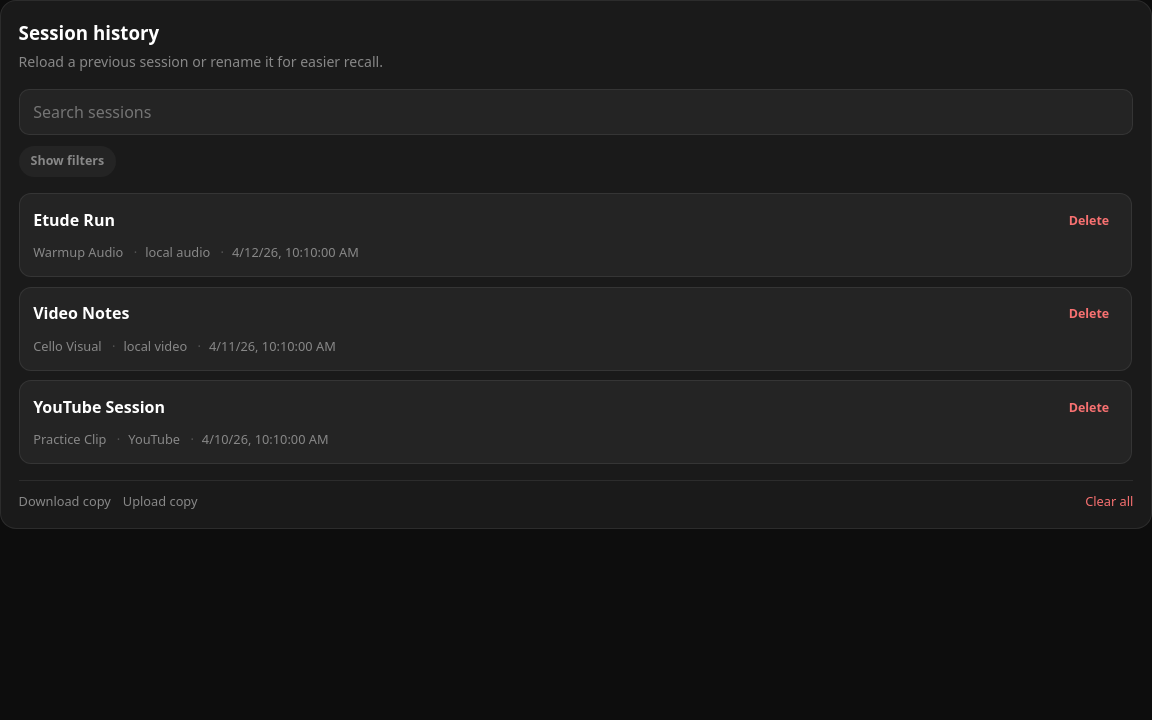
Test: SessionHistory organization controls › filters sessions by search text
This screenshot has width=1152, height=720.
Type "video" into the search field with placeholder "Search sessions" at coordinates (576, 112), box 19,89 -> 1133,135
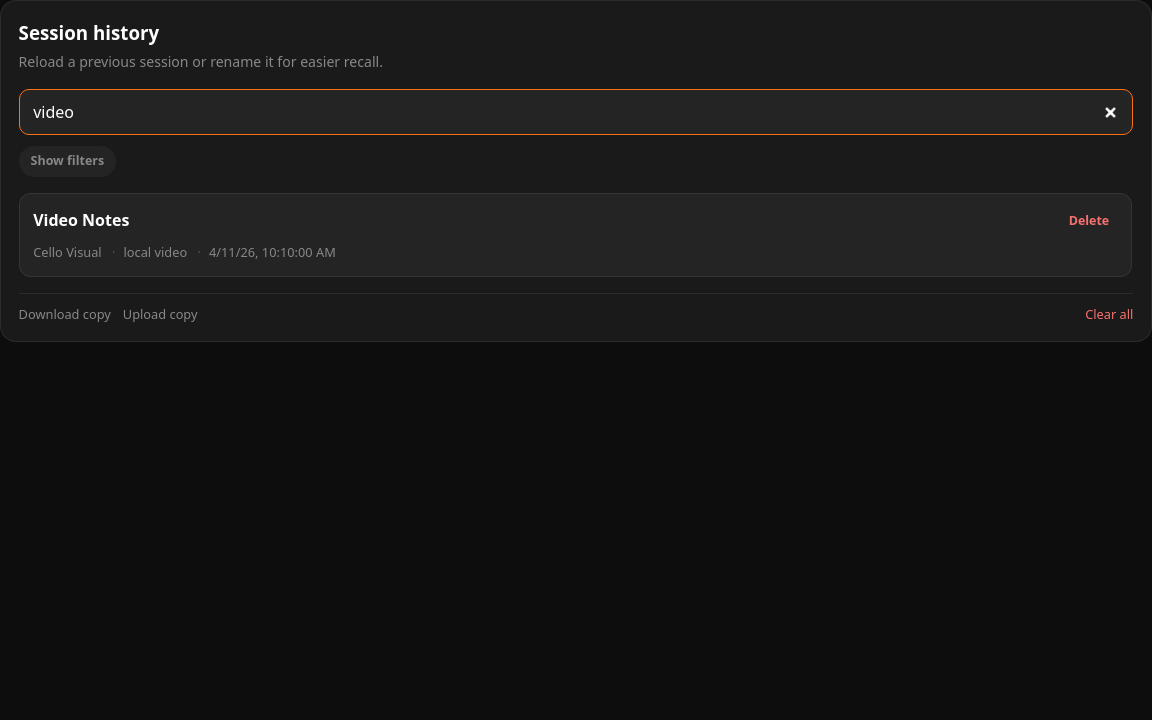
Expected: the button "Video Notes" is shown, 33,208 -> 129,232
Now the button "Etude Run" is gone
Now the button "YouTube Session" is gone
